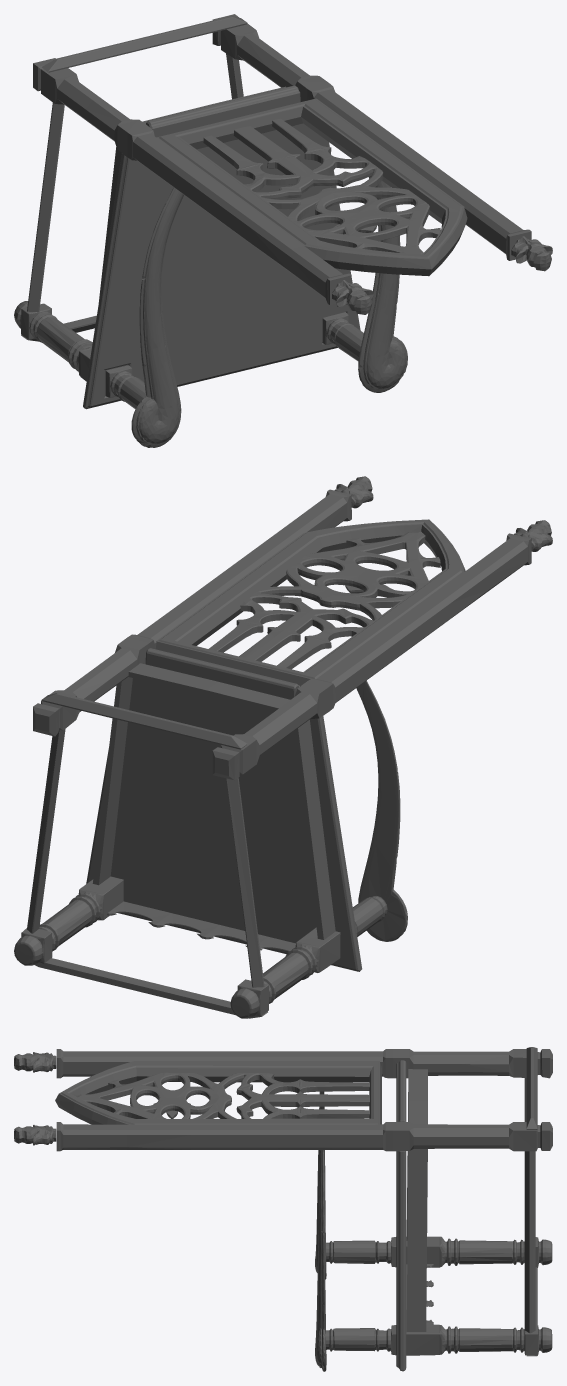
The model's file is chair.obj.
3 views of the same model, one above another, from view 1: azimuth 30°, elevation 25°; view 2: azimuth 150°, elevation 25°; view 3: azimuth 270°, elevation 25° (orthographic). The views are drawn at different scales.
Visible parts, largest first — view 1: chair.obj; view 2: chair.obj; view 3: chair.obj.
Boxes of the visible parts, x1=… form: chair.obj: x1=14, y1=14, x2=552, y2=447; chair.obj: x1=14, y1=476, x2=552, y2=1018; chair.obj: x1=14, y1=1047, x2=552, y2=1371.
Size of the model in its own units: 0.42 by 0.42 by 0.85.
1 material, 1 textured.
